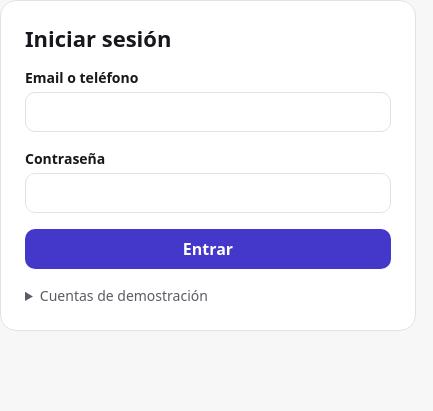
Scenario: LoginForm › indica cuánto esperar cuando la cuenta está bloqueada
Type "a@b.co" into the field labelled "Email o teléfono" at [208, 112], box x1=25 y1=92 x2=391 y2=132
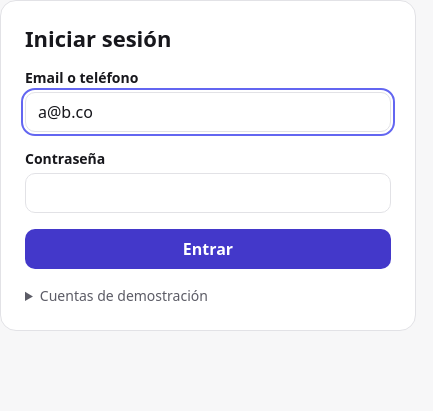
Type "x" into the password field labelled "Contraseña" at [208, 193], box x1=25 y1=173 x2=391 y2=213
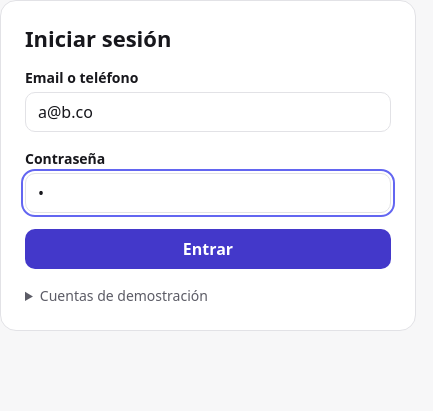
Click the button "Entrar" at [208, 249], box x1=25 y1=229 x2=391 y2=269
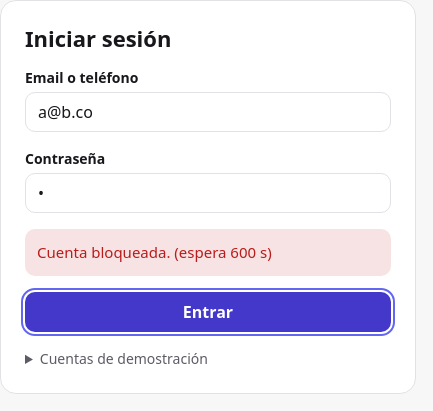
Now the message shows "espera 600 s", box x1=37 y1=242 x2=272 y2=262
